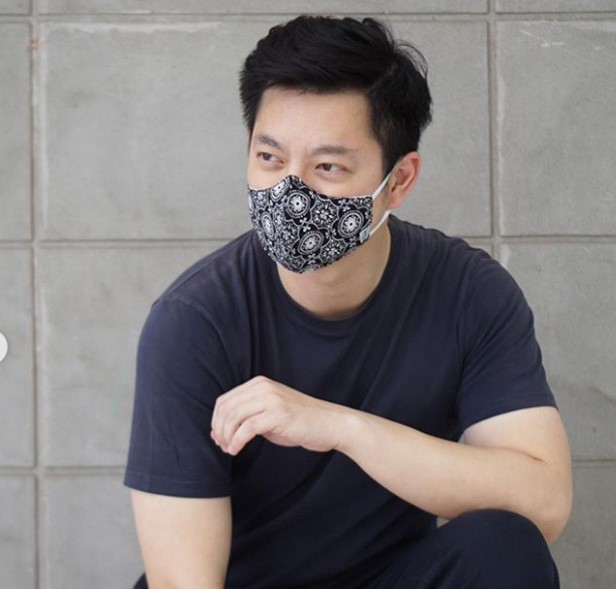face_with_mask: (239, 24, 424, 277)
